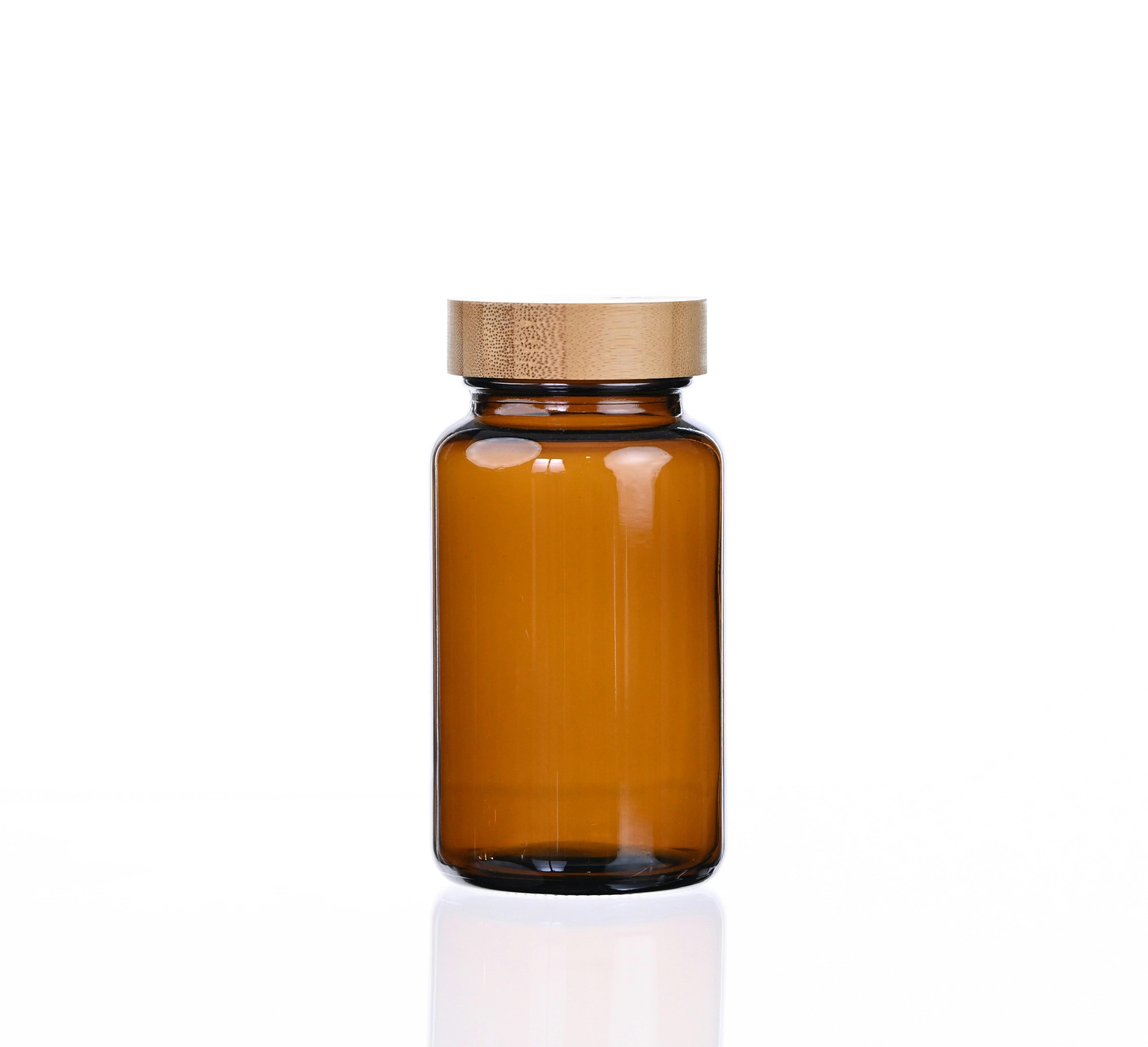Bottle-Detection: (352, 220, 798, 947)
